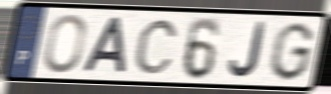6: (183, 16, 222, 82)
A: (81, 15, 129, 76)
C: (133, 17, 180, 76)
G: (266, 21, 317, 83)
J: (227, 21, 268, 80)
O: (42, 12, 88, 75)
